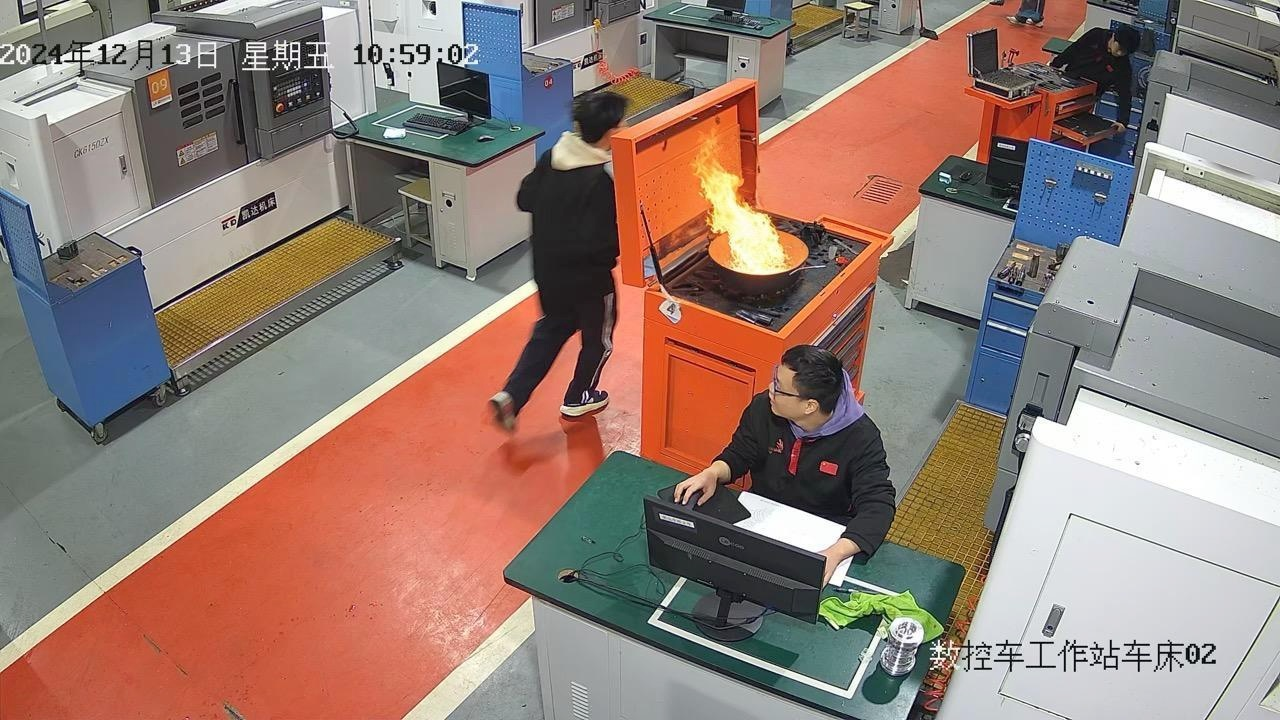fire: (676, 133, 804, 276)
